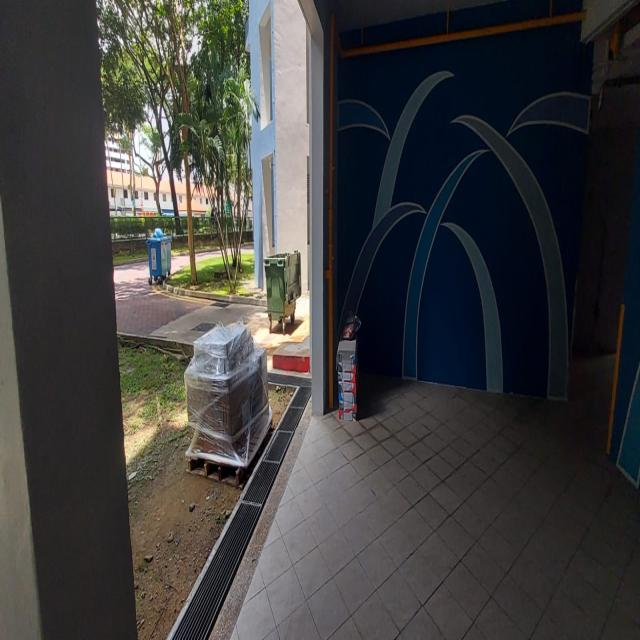bin_empty: (263, 248, 302, 330), (146, 230, 172, 285)
bulk_waste: (194, 319, 270, 482), (336, 308, 364, 427)
